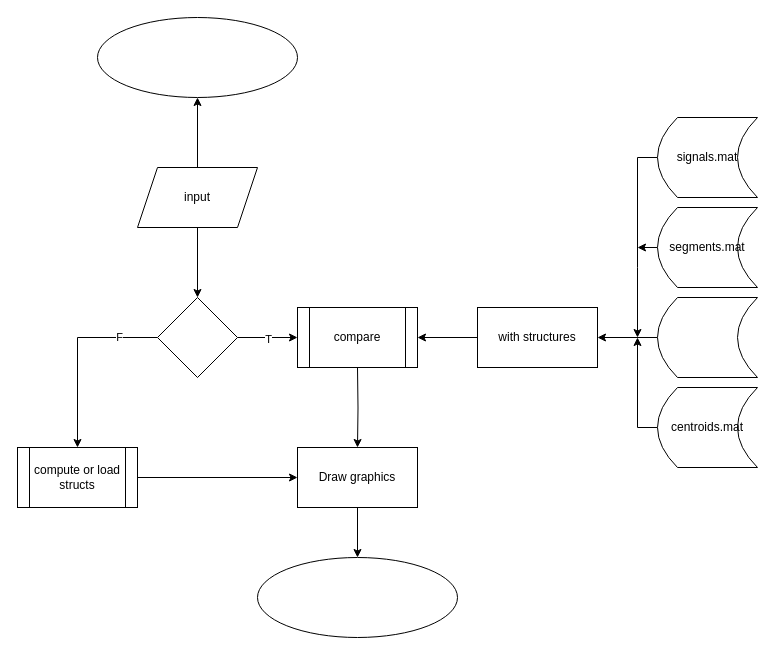
The diagram is 775 pixels wide and 655 high, and some of its shapes have lost their labels. The shapes that lost their labels are listed below. From the top down, each one's centre as x and y in pixels, then its label:
(197,57): START
(197,337): If external data
(707,337): spectrums.mat
(357,597): STOP
